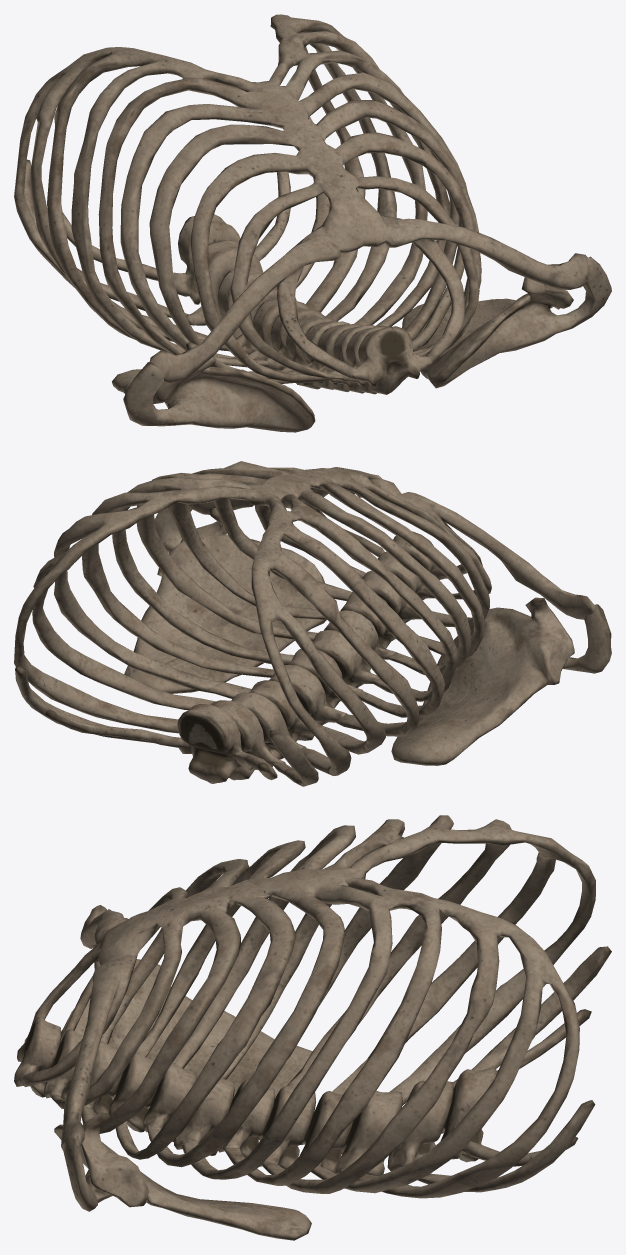
File: sm_Skeleton_01_02.fbx
3 renders of one model, top to bottom at view 1: azimuth 30°, elevation 25°; view 2: azimuth 150°, elevation 25°; view 3: azimuth 270°, elevation 25°, orthographic. The views are drawn at different scales.
Visible parts, largest first — view 1: sm_Skeleton_01_02_LOD0; view 2: sm_Skeleton_01_02_LOD0; view 3: sm_Skeleton_01_02_LOD0.
Part boxes in pixels (box(x1,y1,x2,y2)): sm_Skeleton_01_02_LOD0: box(14, 14, 611, 432); sm_Skeleton_01_02_LOD0: box(14, 461, 611, 786); sm_Skeleton_01_02_LOD0: box(14, 815, 611, 1240).
Size of the model in its own units: 47.29 by 45.77 by 27.05.
